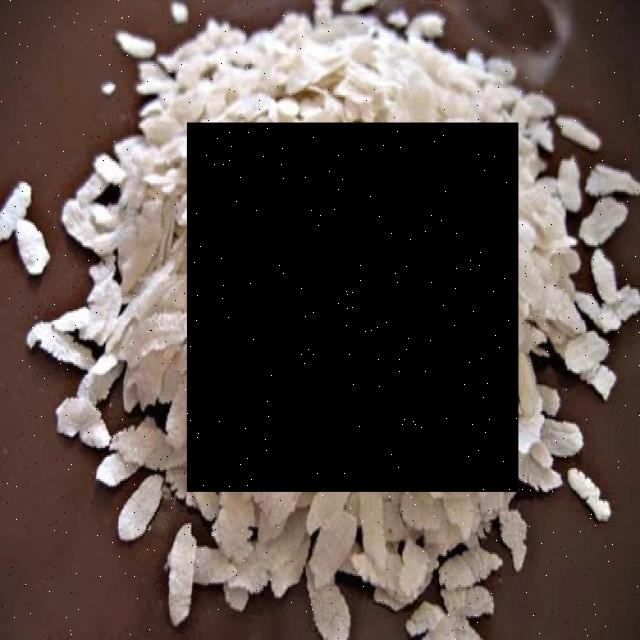Beaten_Rice: (187, 123, 518, 492)
